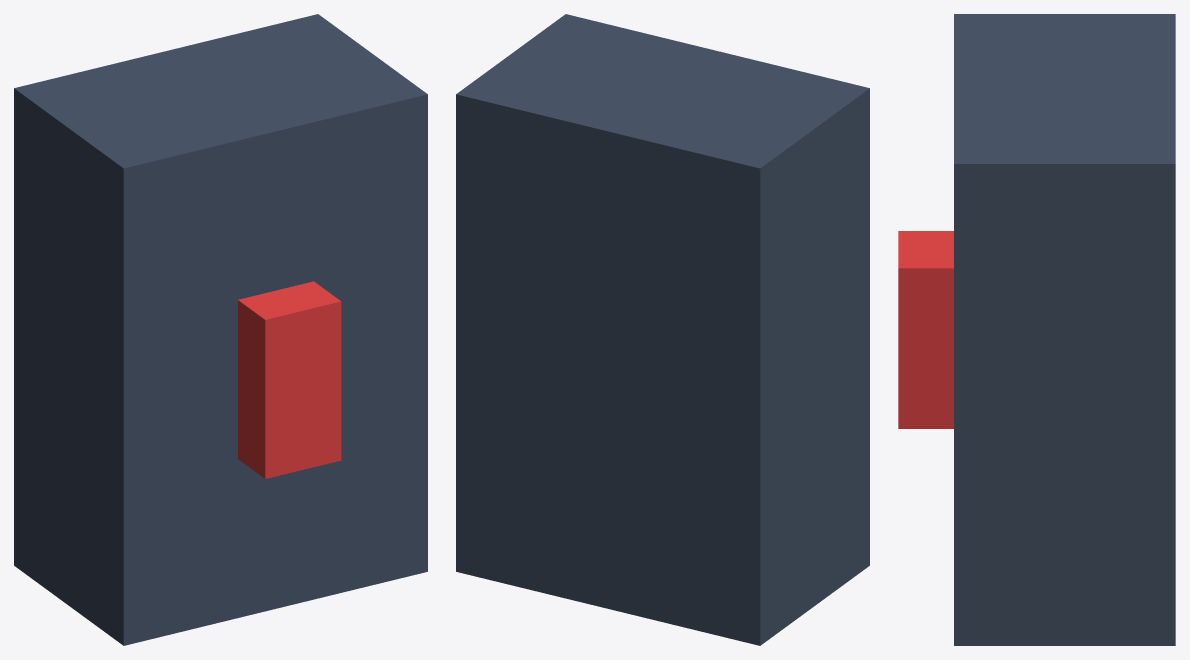
Rendered from acc-disconnect-60a.glb.
The picture shows the model from 3 angles, left to right: view 1: azimuth 30°, elevation 25°; view 2: azimuth 150°, elevation 25°; view 3: azimuth 270°, elevation 25°; orthographic projection.
Parts seen in each view (by area): view 1: hvac-fitting-ac-disconnect-box; view 2: hvac-fitting-ac-disconnect-box; view 3: hvac-fitting-ac-disconnect-box.
Part boxes in pixels (<box>): hvac-fitting-ac-disconnect-box: <box>14,14,427,645</box>; hvac-fitting-ac-disconnect-box: <box>456,14,869,645</box>; hvac-fitting-ac-disconnect-box: <box>898,14,1175,645</box>.
Bounding box in the file's own units: 0.16 × 0.24 × 0.125.
